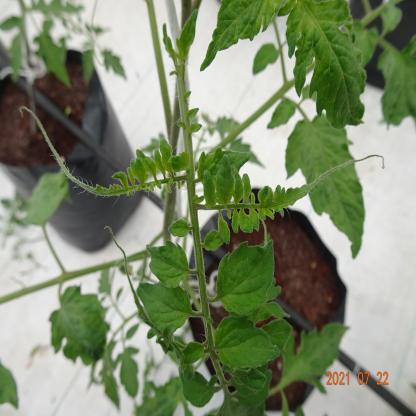T_L_R: (216, 242, 275, 316), (216, 317, 281, 369), (138, 283, 195, 330), (147, 242, 198, 288), (217, 155, 236, 207), (204, 171, 217, 209), (169, 220, 192, 238)
T_S_H: (164, 25, 215, 365)
